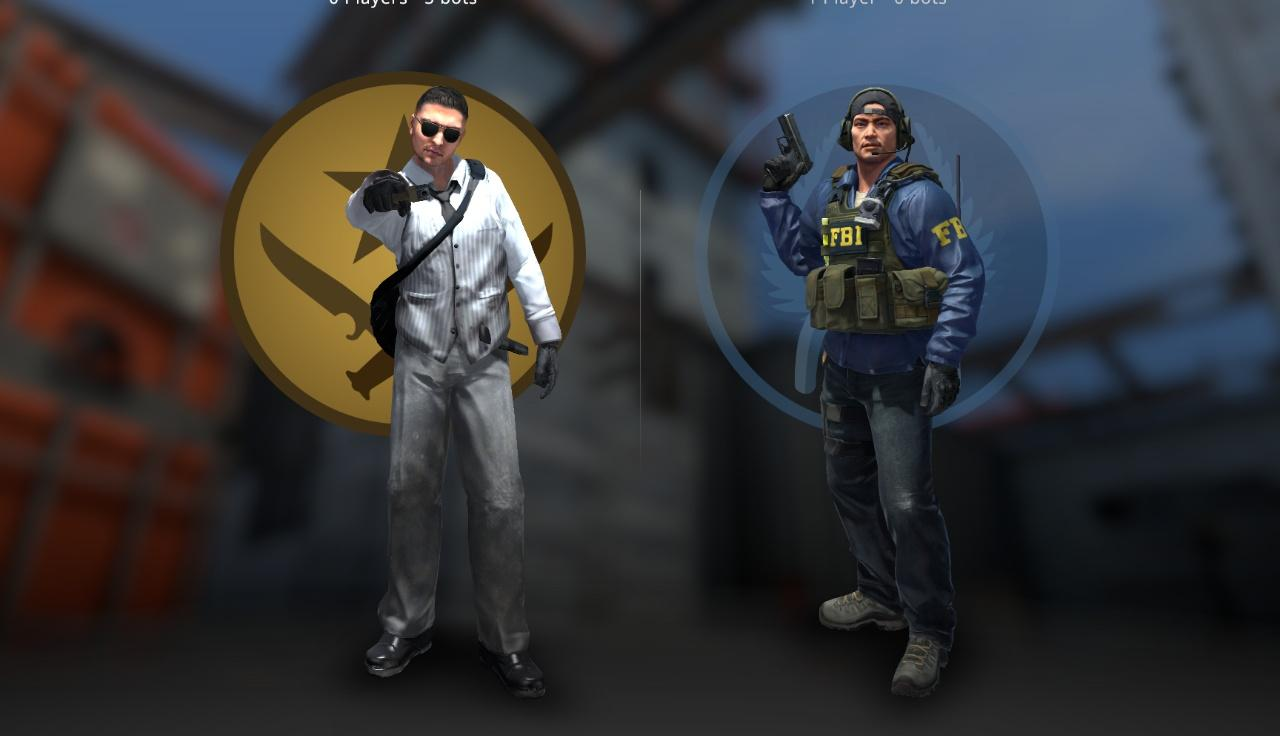ct: (740, 84, 1001, 698)
cthead: (843, 87, 907, 163)
tt: (313, 81, 577, 703)
tthead: (411, 84, 472, 166)
